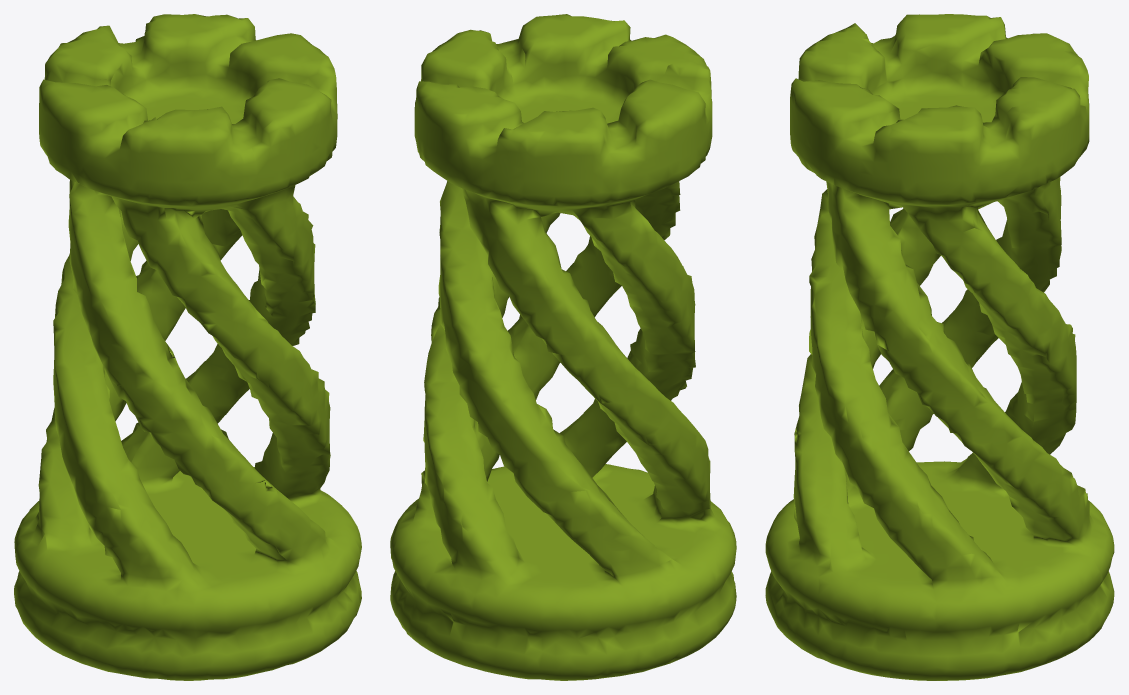
Rendered from model_decimated.obj.
The picture shows the model from 3 angles, left to right: view 1: azimuth 30°, elevation 25°; view 2: azimuth 150°, elevation 25°; view 3: azimuth 270°, elevation 25°; orthographic projection.
Size of the model in its own units: 34.92 by 60.02 by 34.92.
